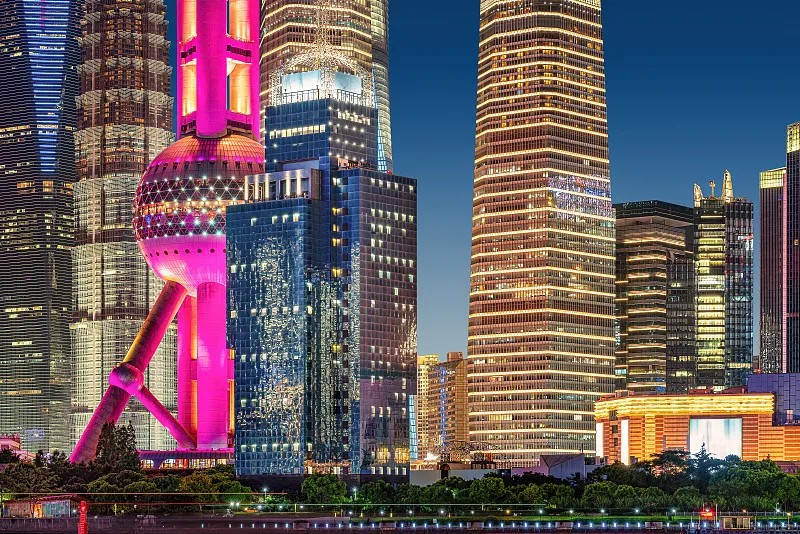Oriental: (69, 1, 263, 465)
